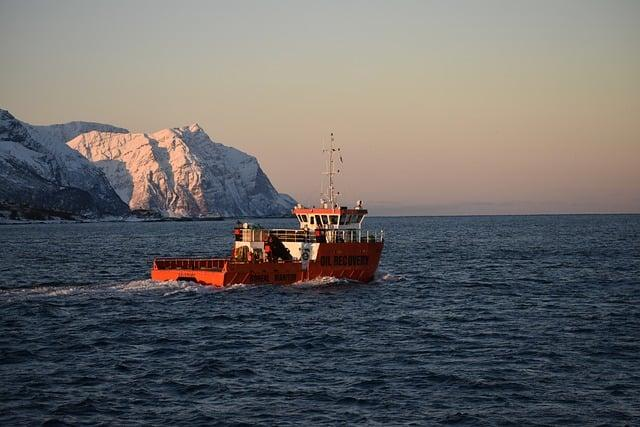Ship: (152, 132, 385, 287)
